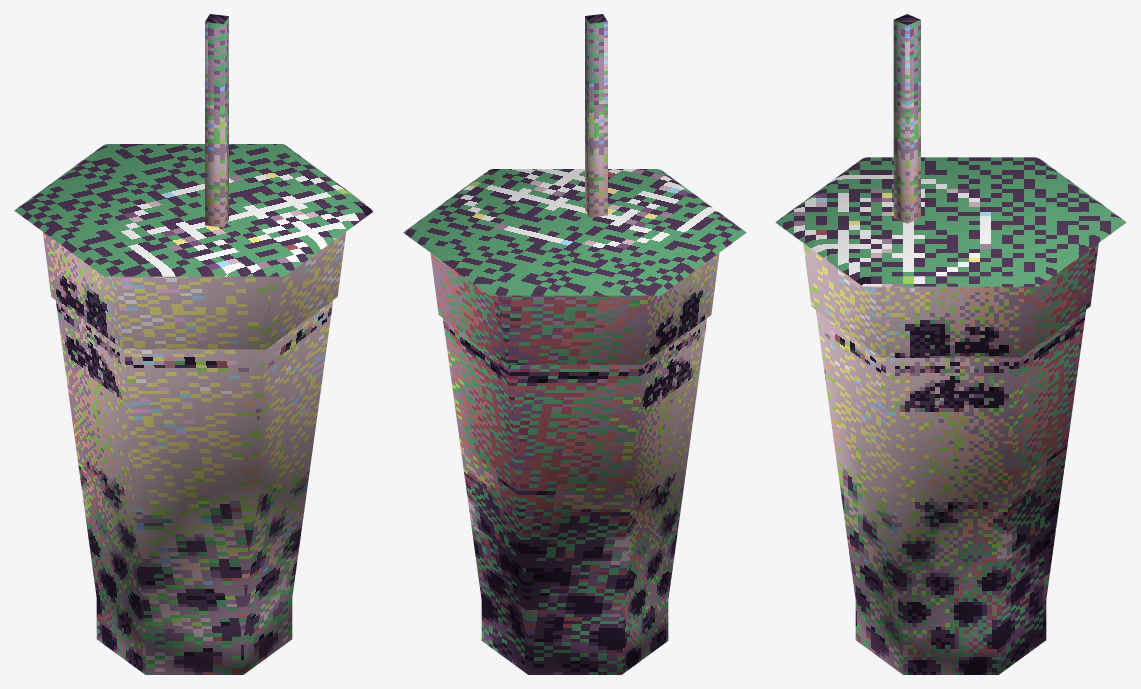
File: boba-world.glb
The picture shows the model from 3 angles, left to right: view 1: azimuth 30°, elevation 25°; view 2: azimuth 150°, elevation 25°; view 3: azimuth 270°, elevation 25°; orthographic projection. The views are drawn at different scales.
Parts seen in each view (by area): view 1: boba-world-mdl; view 2: boba-world-mdl; view 3: boba-world-mdl.
Part boxes in pixels (x1,y1,x2,y2): boba-world-mdl: (14, 14, 374, 674); boba-world-mdl: (403, 14, 746, 674); boba-world-mdl: (775, 14, 1126, 674).
Size of the model in its own units: 1.62 by 3.64 by 1.87.
1 material, 1 textured.
